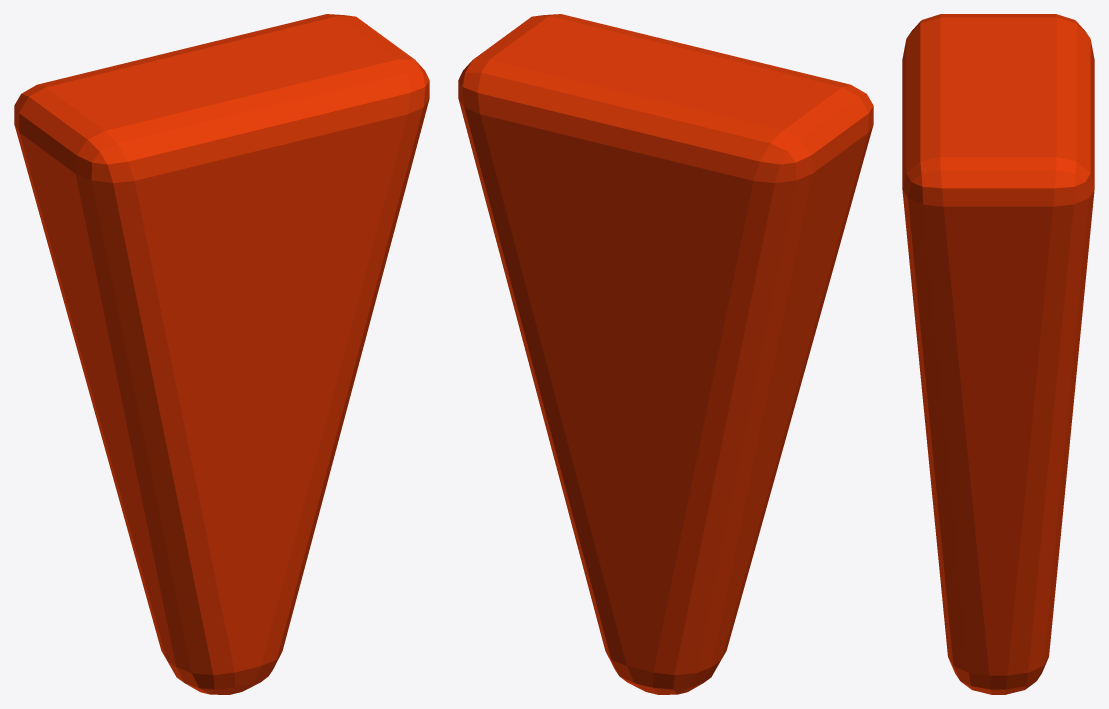
The model's file is Marker.glb.
The picture shows the model from 3 angles, left to right: view 1: azimuth 30°, elevation 25°; view 2: azimuth 150°, elevation 25°; view 3: azimuth 270°, elevation 25°; orthographic projection. The views are drawn at different scales.
Visible parts, largest first — view 1: Cube; view 2: Cube; view 3: Cube.
Boxes of the visible parts, x1=… form: Cube: x1=14, y1=14, x2=429, y2=694; Cube: x1=458, y1=14, x2=873, y2=694; Cube: x1=902, y1=14, x2=1094, y2=694.
Size of the model in its own units: 1.91 by 3.21 by 0.9316.
